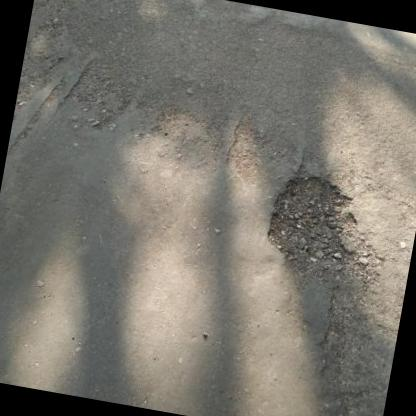pothole: (257, 165, 376, 279)
